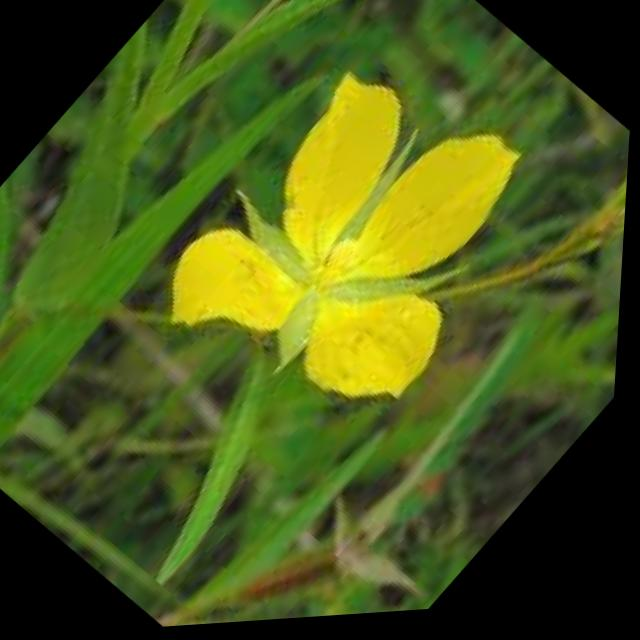Flower: (139, 19, 612, 496)
